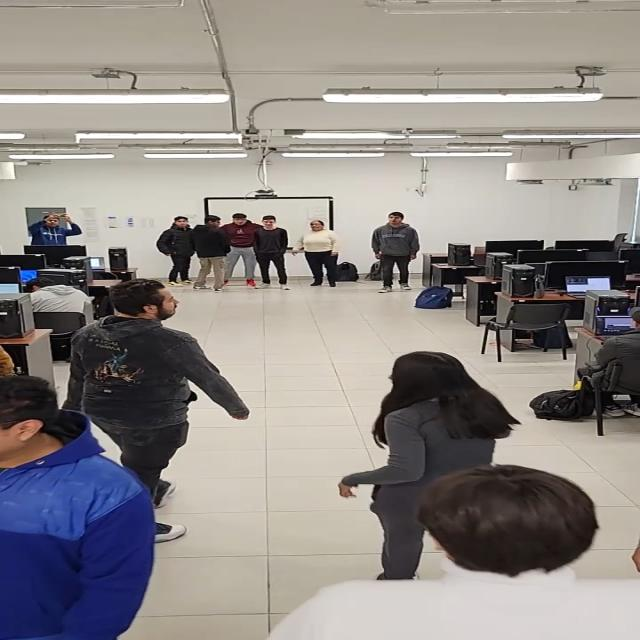Persona: (260, 461, 639, 640), (61, 277, 254, 508), (336, 350, 524, 582), (0, 374, 156, 639), (370, 211, 420, 294), (290, 220, 343, 288), (188, 214, 231, 294), (220, 212, 262, 288), (252, 214, 292, 290), (156, 216, 198, 288)
